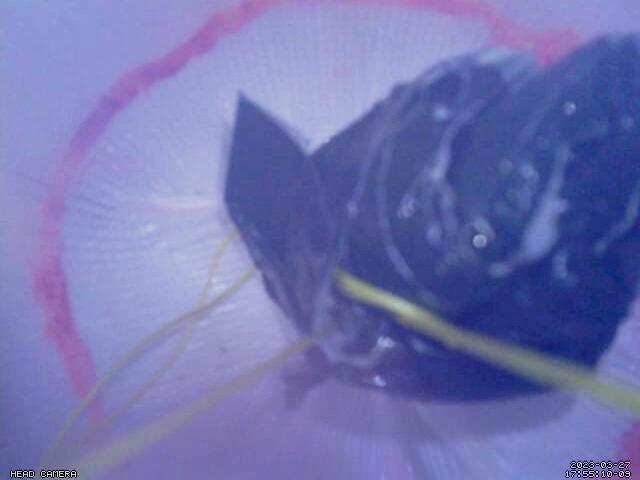head: (31, 0, 640, 480)
